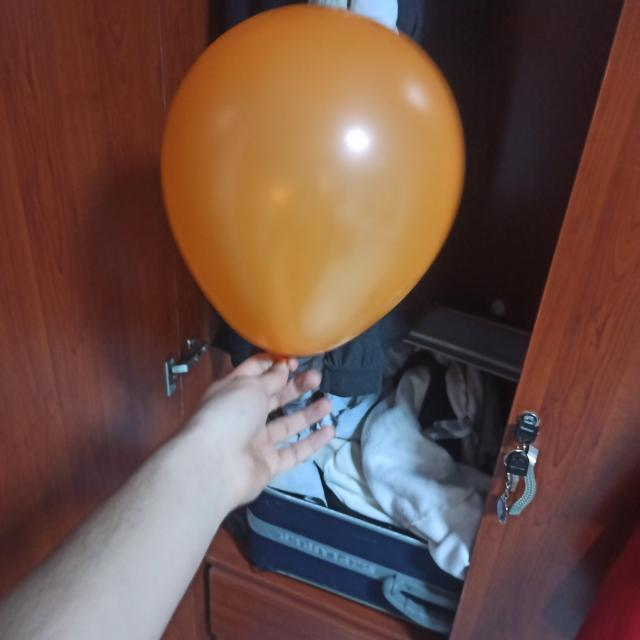balloon: (162, 2, 464, 358)
